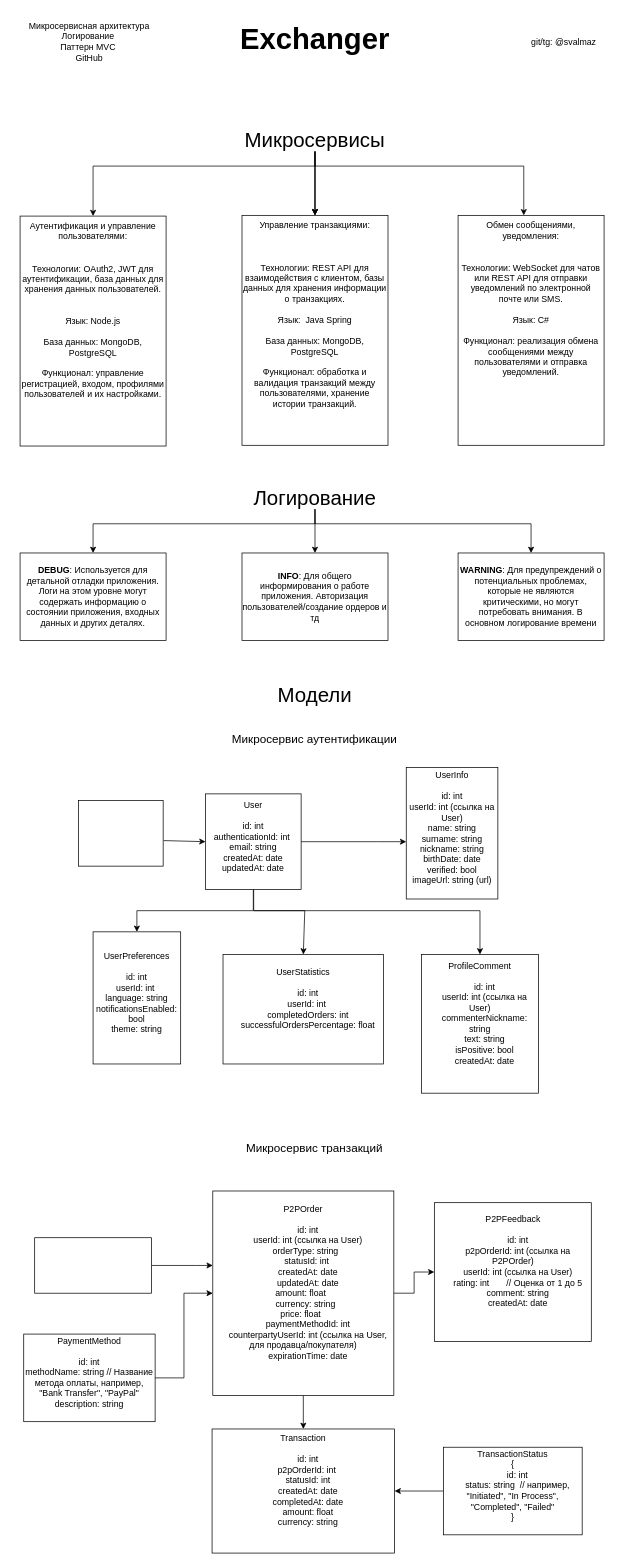
Some shapes in this 617 by 1566 pixel diagram are drawn without their labels. Here are the shapes that lost their labels. From the top down, the centre of each, then its label:
[120,833]: Authentication id: int login: string password: string
[92,1265]: P2POrderStatus id: int status: string
